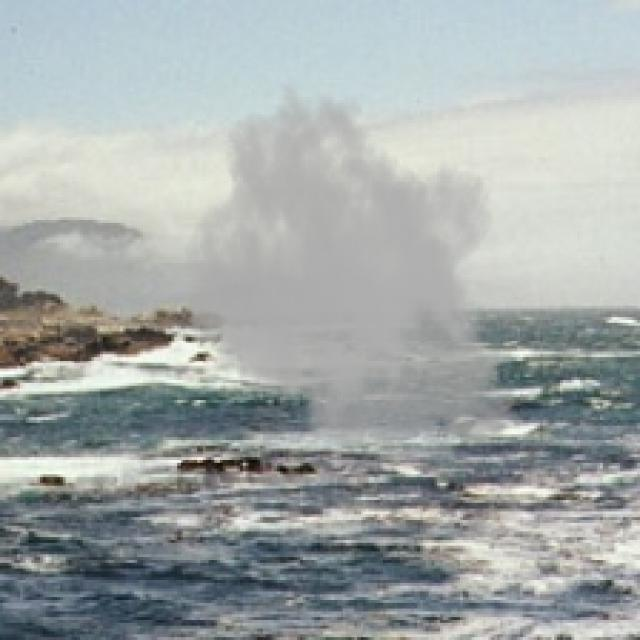smoke: (183, 80, 528, 463)
